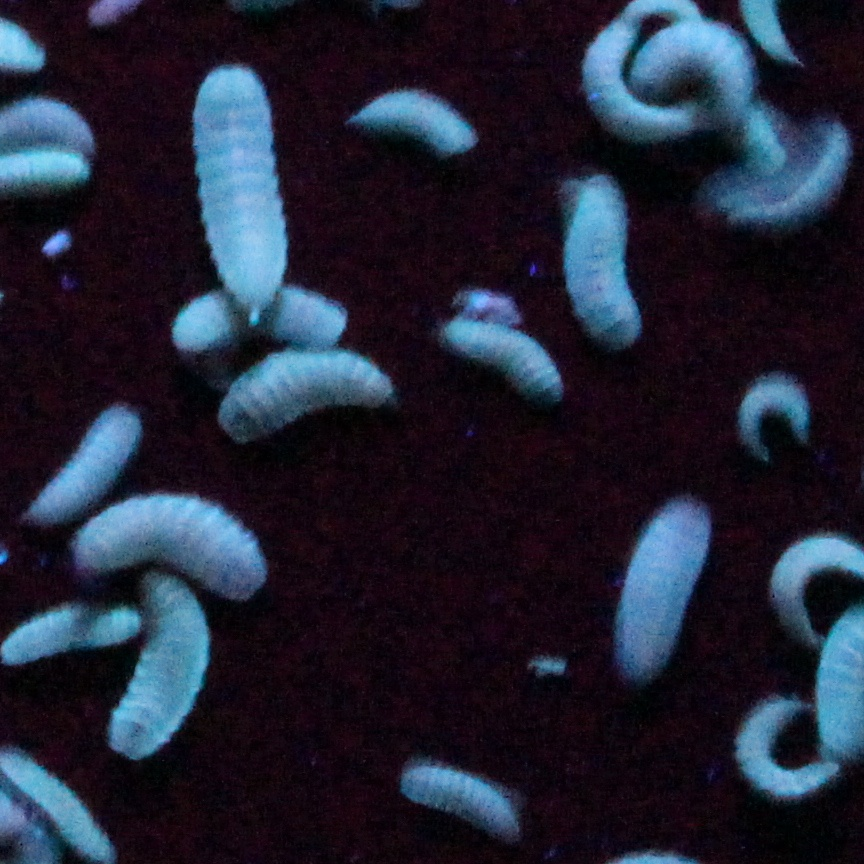larve: (184, 65, 292, 312), (76, 494, 270, 603), (616, 489, 714, 689), (110, 576, 210, 765), (223, 348, 398, 453), (27, 401, 146, 526), (564, 173, 645, 344), (629, 20, 762, 124), (731, 126, 849, 232), (431, 318, 562, 406), (182, 293, 350, 355), (736, 696, 838, 796), (347, 83, 478, 157), (401, 765, 523, 840), (732, 372, 812, 456)
